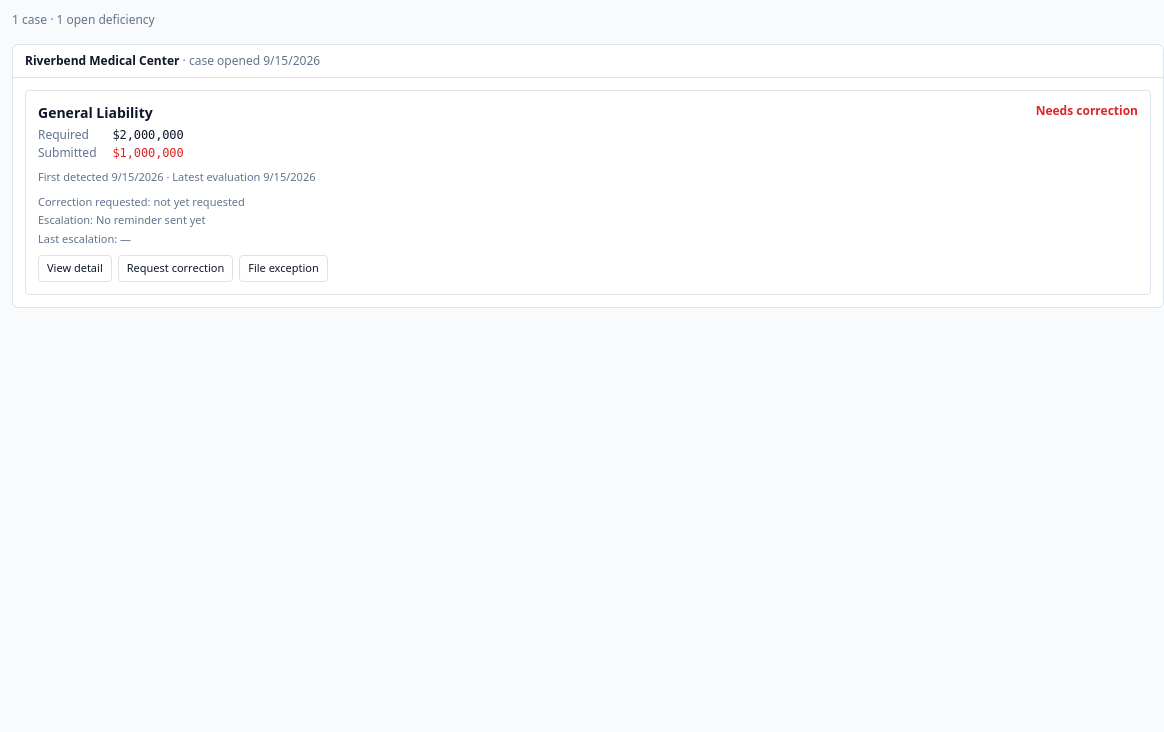
Test: ComplianceCasesSection › sends a correction request through the suppression-safe path and starts the clock
Later steps or results of the test are not shown.
Expected: the list item with test id "deficiency-row" is shown, [25,90,1151,294]
Click the button "Request correction": click(175, 268) [118,255,233,282]
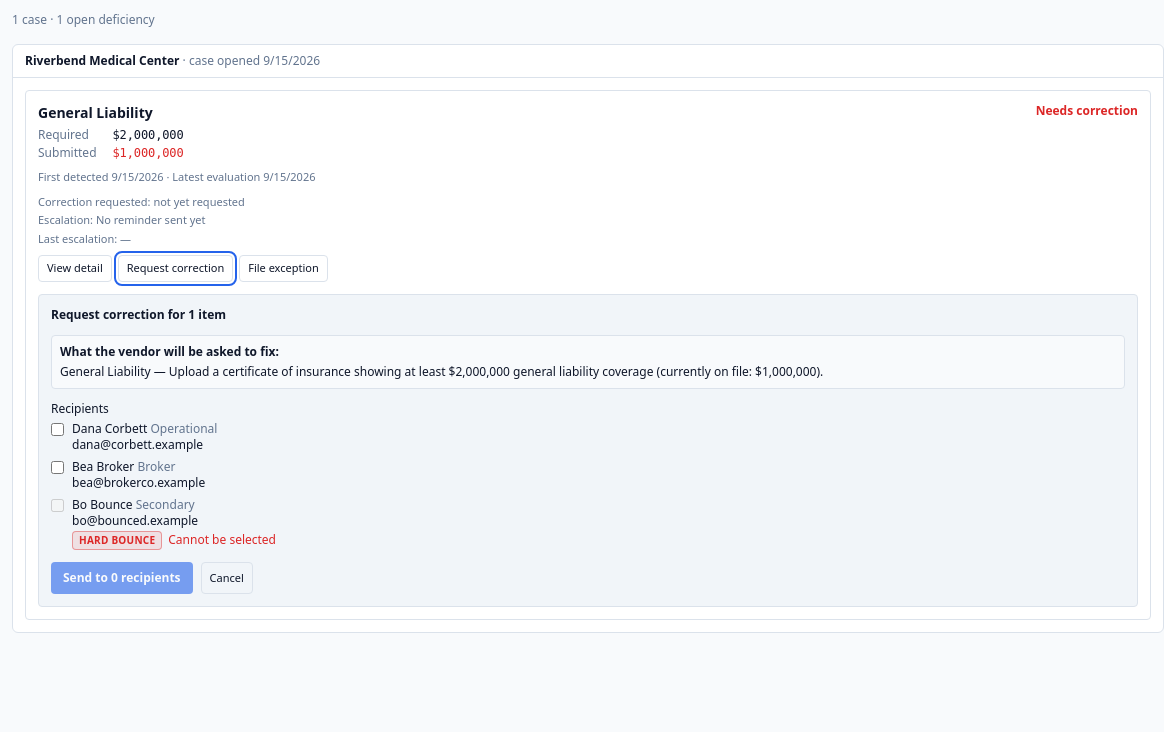
Expected: the 3rd checkbox is disabled, [51,498,64,512]
